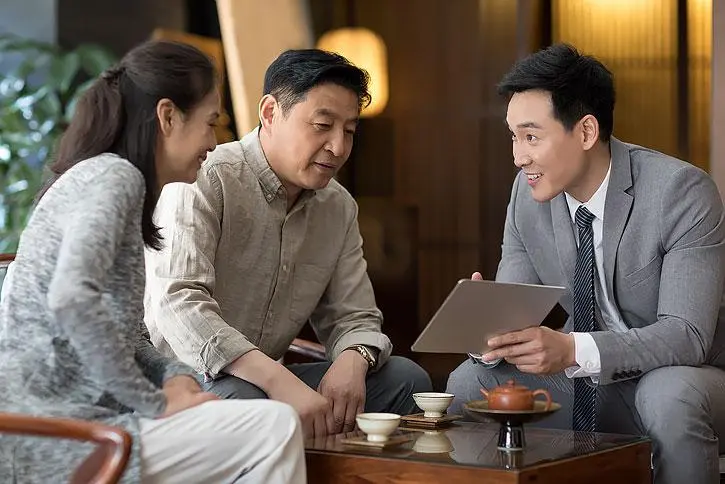withoutmask: (492, 43, 623, 208), (97, 37, 227, 192), (258, 40, 372, 201)
